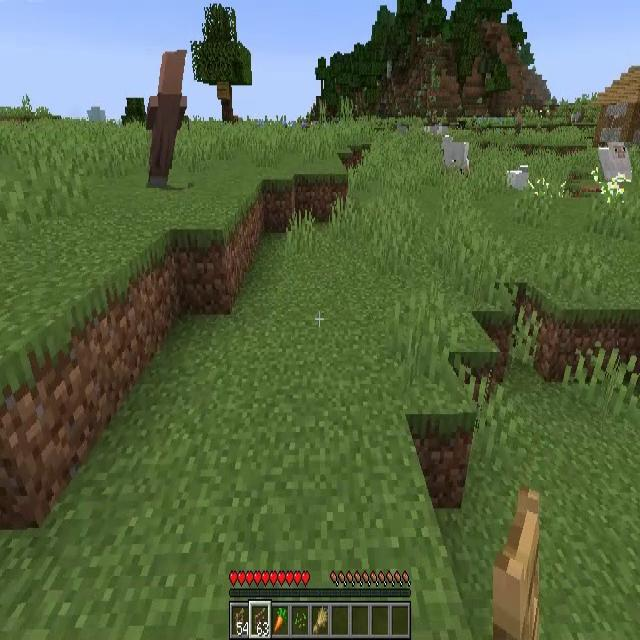flower: (601, 175, 623, 205)
people: (146, 49, 188, 188)
sheep: (598, 142, 632, 182), (442, 140, 469, 174), (507, 166, 532, 190)
